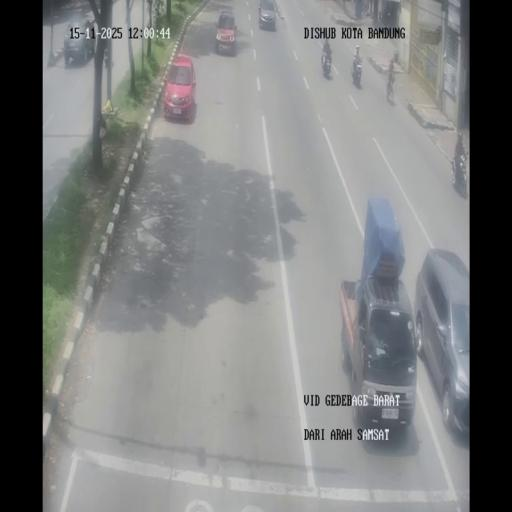3: (342, 202, 418, 438)
car: (414, 251, 469, 439), (163, 54, 196, 122), (63, 18, 96, 66), (215, 9, 237, 55), (257, 0, 276, 30)
truck: (451, 150, 469, 196), (321, 47, 333, 79), (352, 54, 362, 88), (386, 74, 395, 104), (362, 0, 369, 17), (378, 9, 383, 23)
